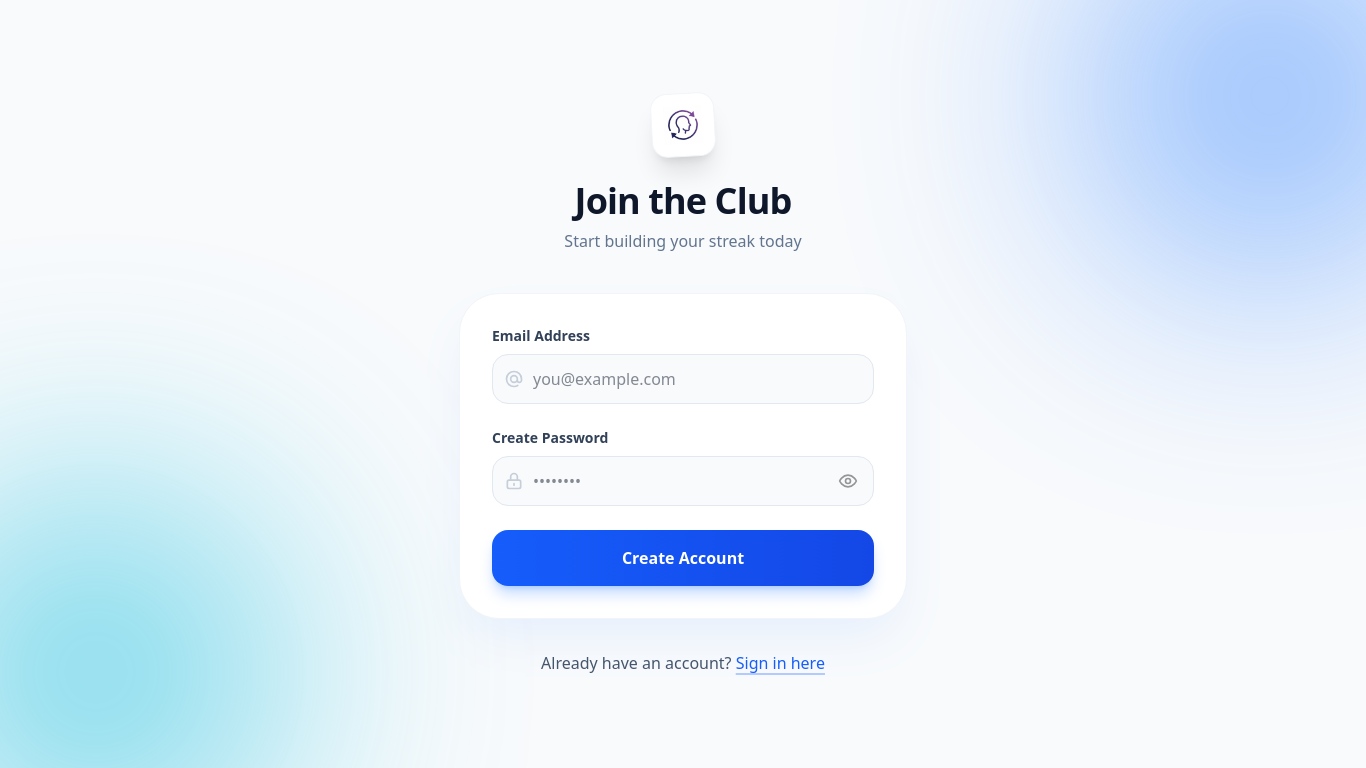
Test case: auth flow › shows an error for duplicate signup email
This screenshot has width=1366, height=768.
In the field with test id "auth-signup-email": (683, 379) [492, 354, 874, 404], type "test@example.com"
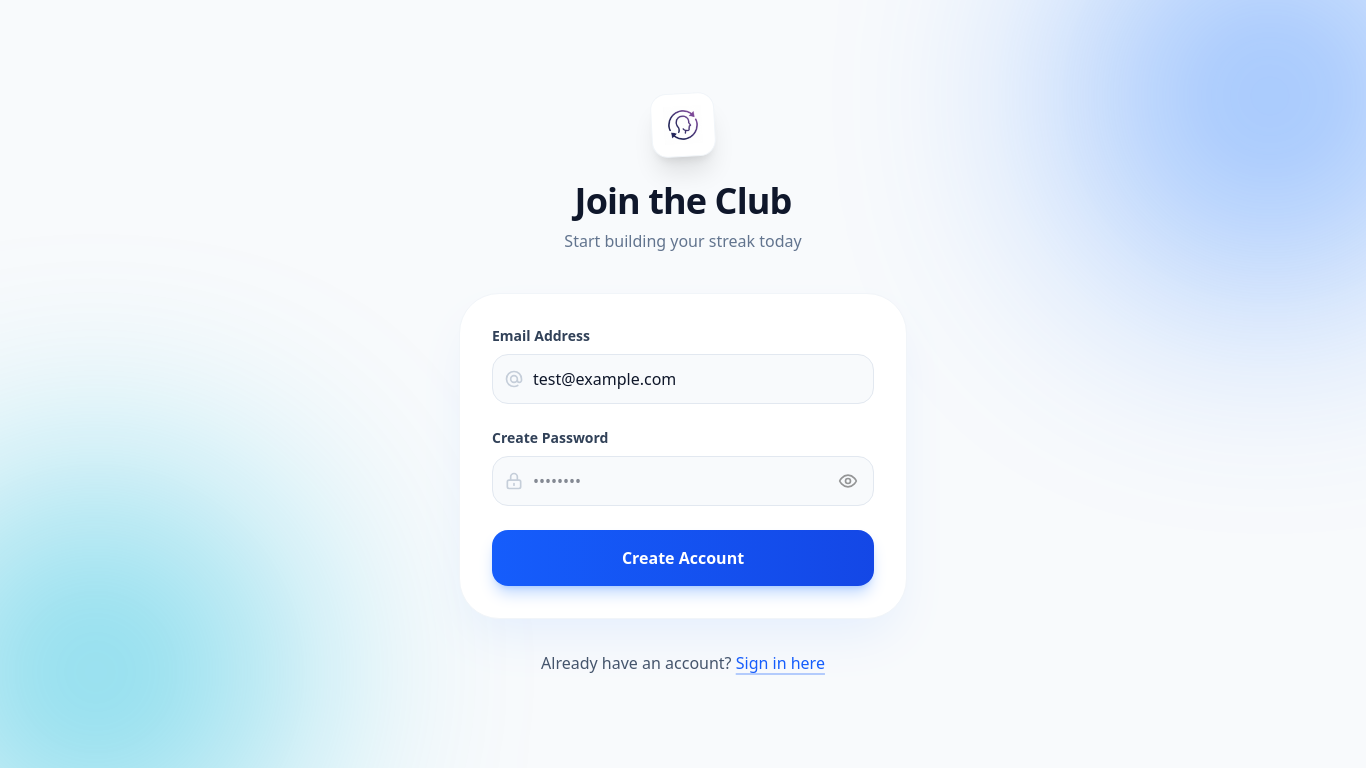
In the password field with test id "auth-signup-password": (683, 481) [492, 456, 874, 506], type "password123"
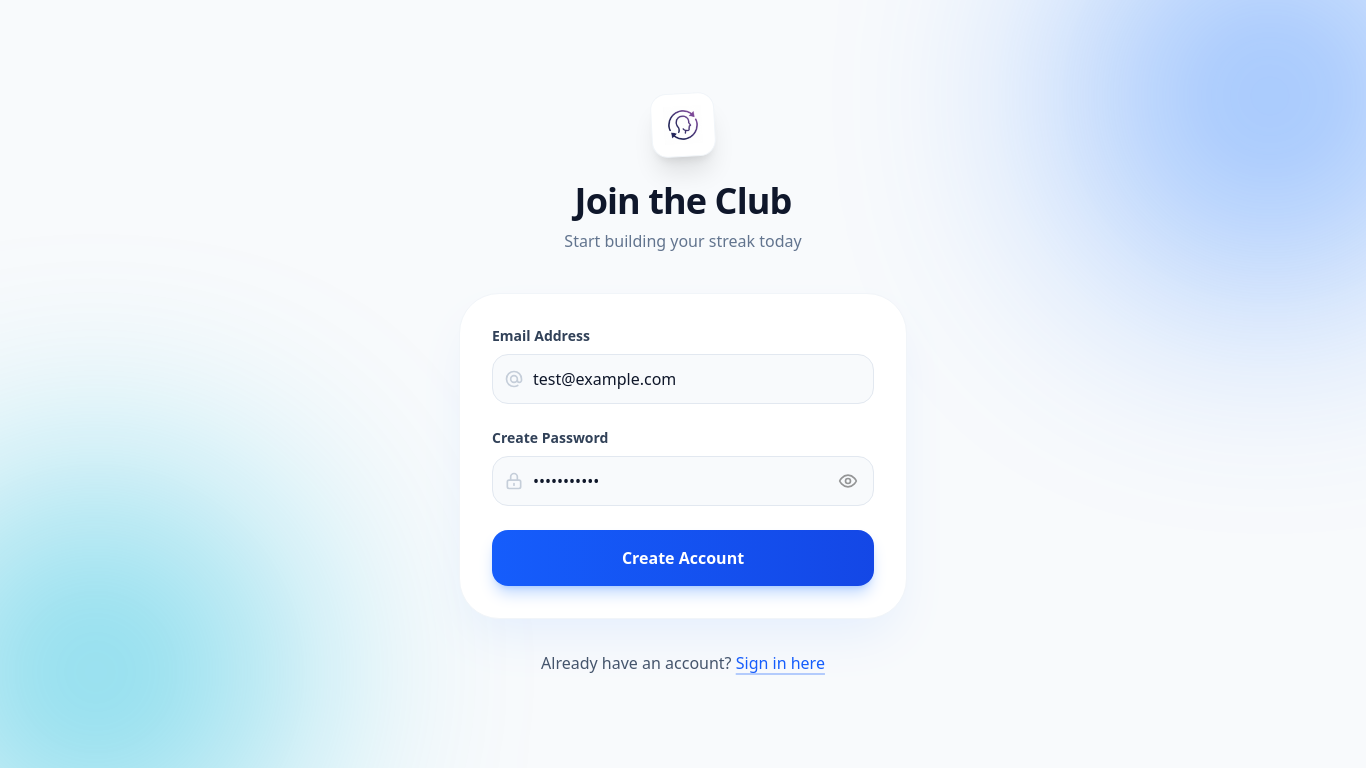
Click the button with test id "auth-signup-submit": (683, 558) [492, 530, 874, 586]
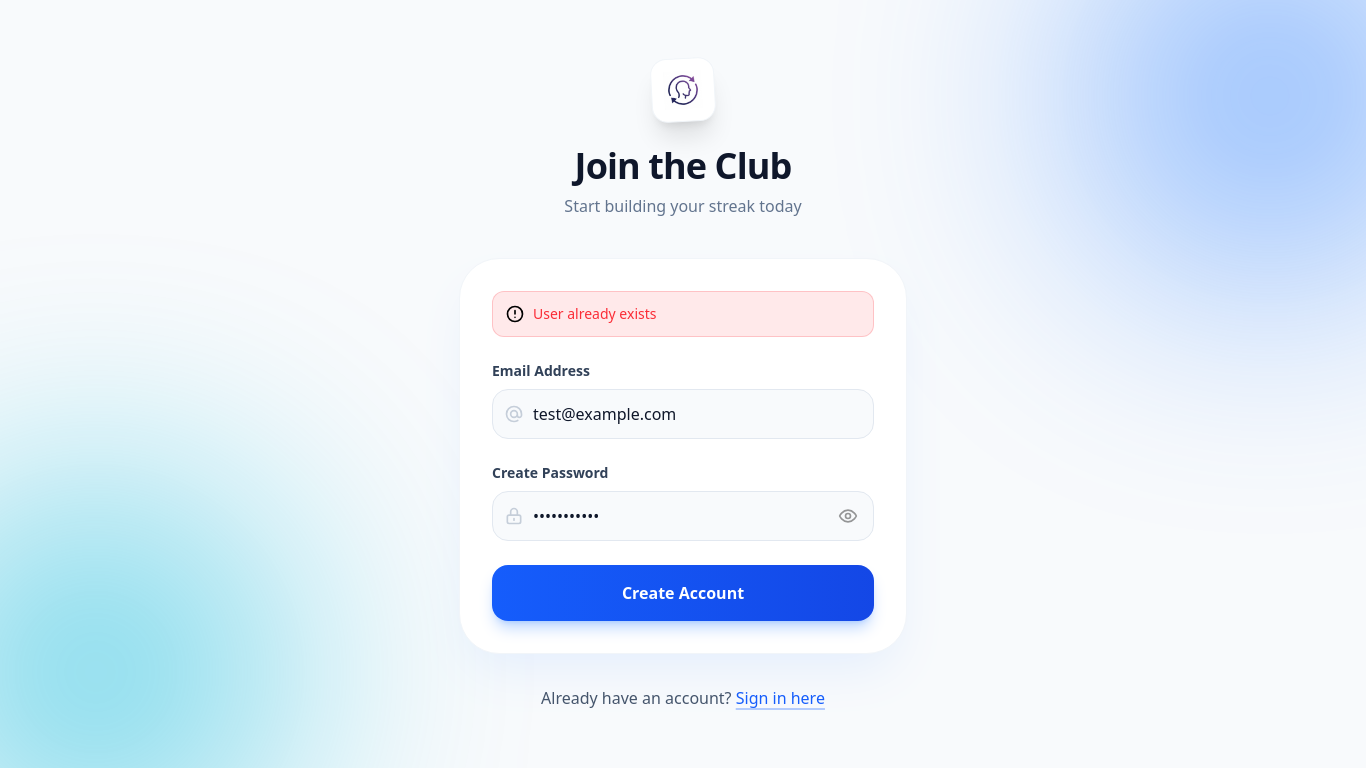
Expected: the text "User already exists" is shown, [533, 304, 656, 324]
